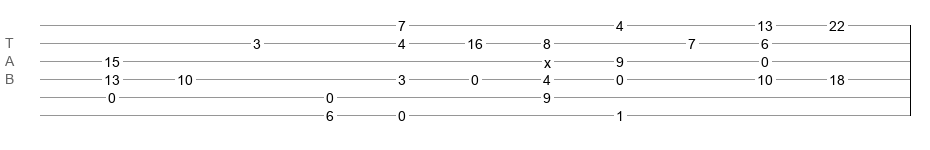0: (108, 90, 116, 100), (326, 90, 334, 100), (398, 108, 406, 118), (471, 72, 479, 82), (616, 72, 624, 82), (761, 54, 769, 64)
1: (616, 108, 624, 118)
10: (177, 72, 193, 82), (757, 72, 773, 82)
13: (104, 72, 120, 82), (757, 18, 773, 28)
15: (104, 54, 120, 64)
16: (467, 36, 483, 46)
18: (829, 72, 845, 82)
22: (829, 18, 845, 28)
3: (253, 36, 261, 46), (398, 72, 406, 82)
4: (398, 36, 406, 46), (543, 72, 551, 82), (616, 18, 624, 28)
6: (326, 108, 334, 118), (761, 36, 769, 46)
7: (398, 18, 406, 28), (688, 36, 696, 46)
8: (543, 36, 551, 46)
9: (543, 90, 551, 100), (616, 54, 624, 64)
x: (544, 55, 551, 63)
